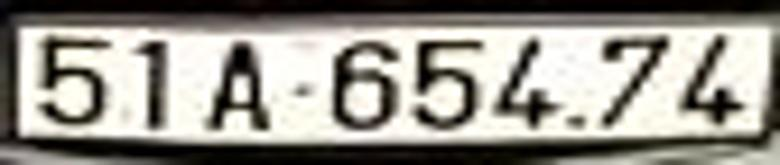-: (281, 76, 320, 102)
.: (566, 109, 589, 137)
1: (132, 35, 174, 133)
4: (491, 33, 565, 132), (679, 29, 748, 131)
5: (35, 32, 114, 130), (413, 34, 483, 134)
6: (324, 35, 402, 135)
7: (598, 32, 672, 129)
A: (206, 39, 277, 136)
